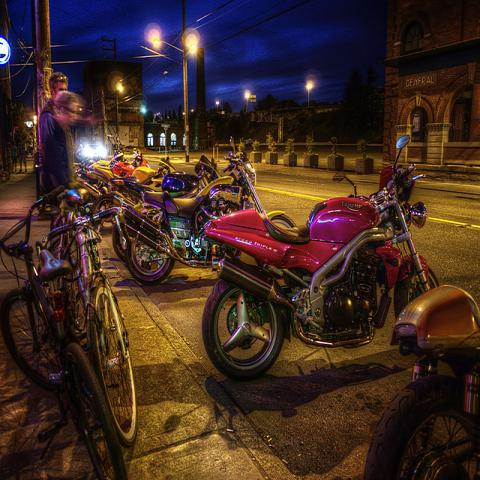motorcycle: (201, 135, 441, 381), (121, 137, 295, 285), (358, 278, 479, 474), (78, 156, 178, 214)
